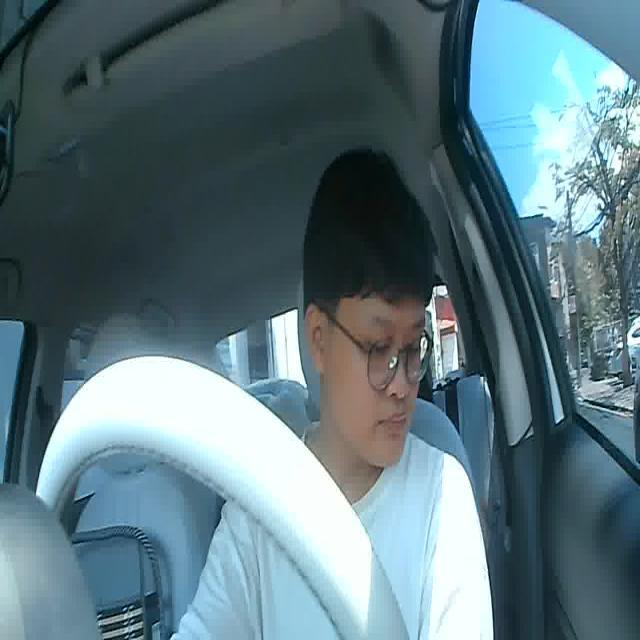Eye-Close: (370, 338, 394, 360), (401, 341, 424, 363)
Inattentive: (303, 146, 435, 468)
Normal: (377, 412, 408, 434)
